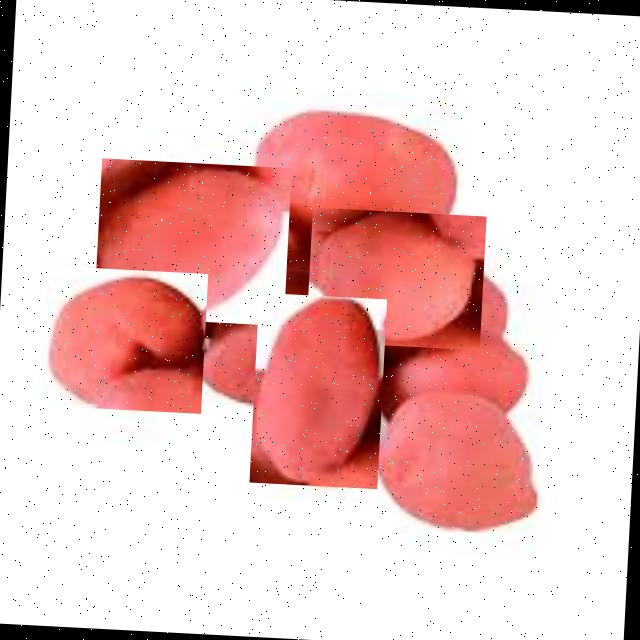Defected potato: (246, 100, 467, 253), (94, 158, 292, 326), (367, 388, 546, 540), (250, 293, 388, 489), (306, 208, 487, 350), (43, 266, 208, 414)
